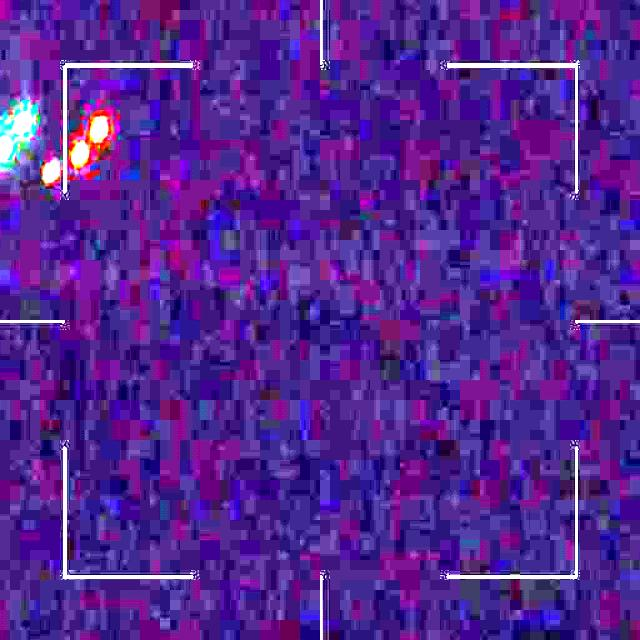bird: (0, 109, 108, 180)
